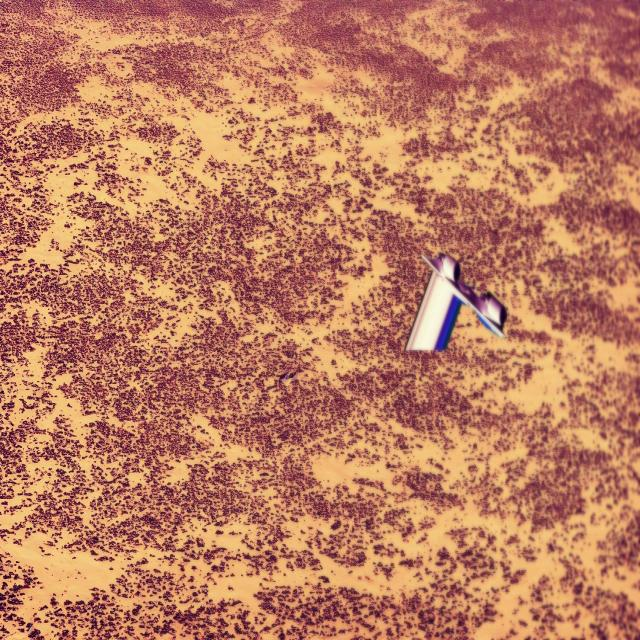airplane: (404, 250, 507, 353)
